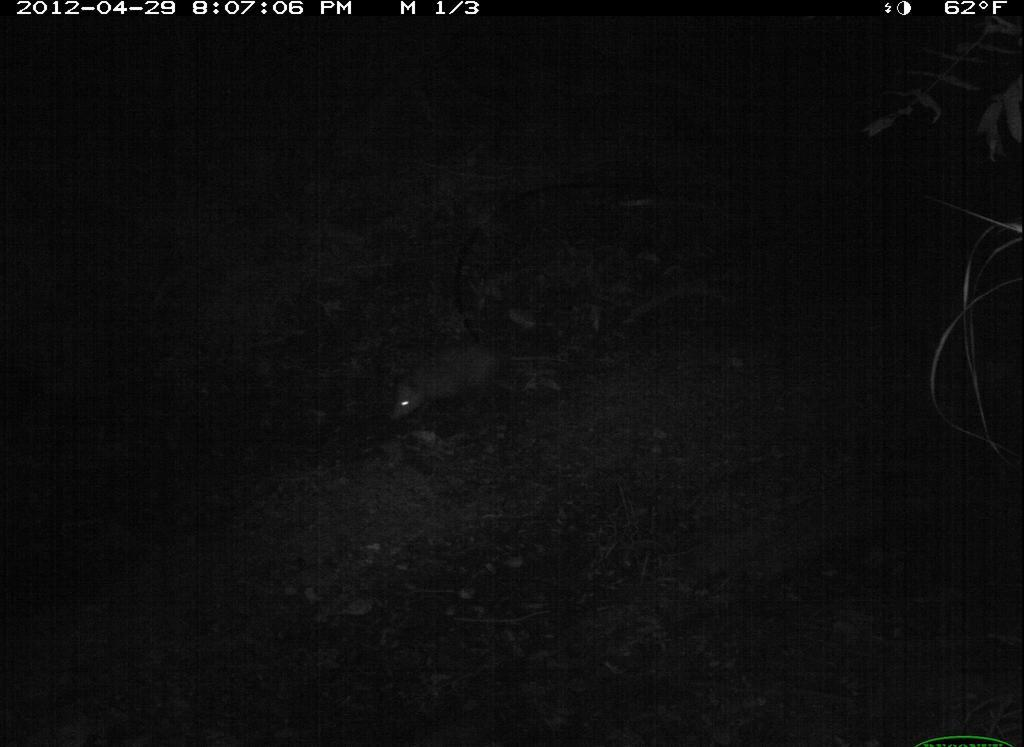opossum: (377, 335, 561, 452)
